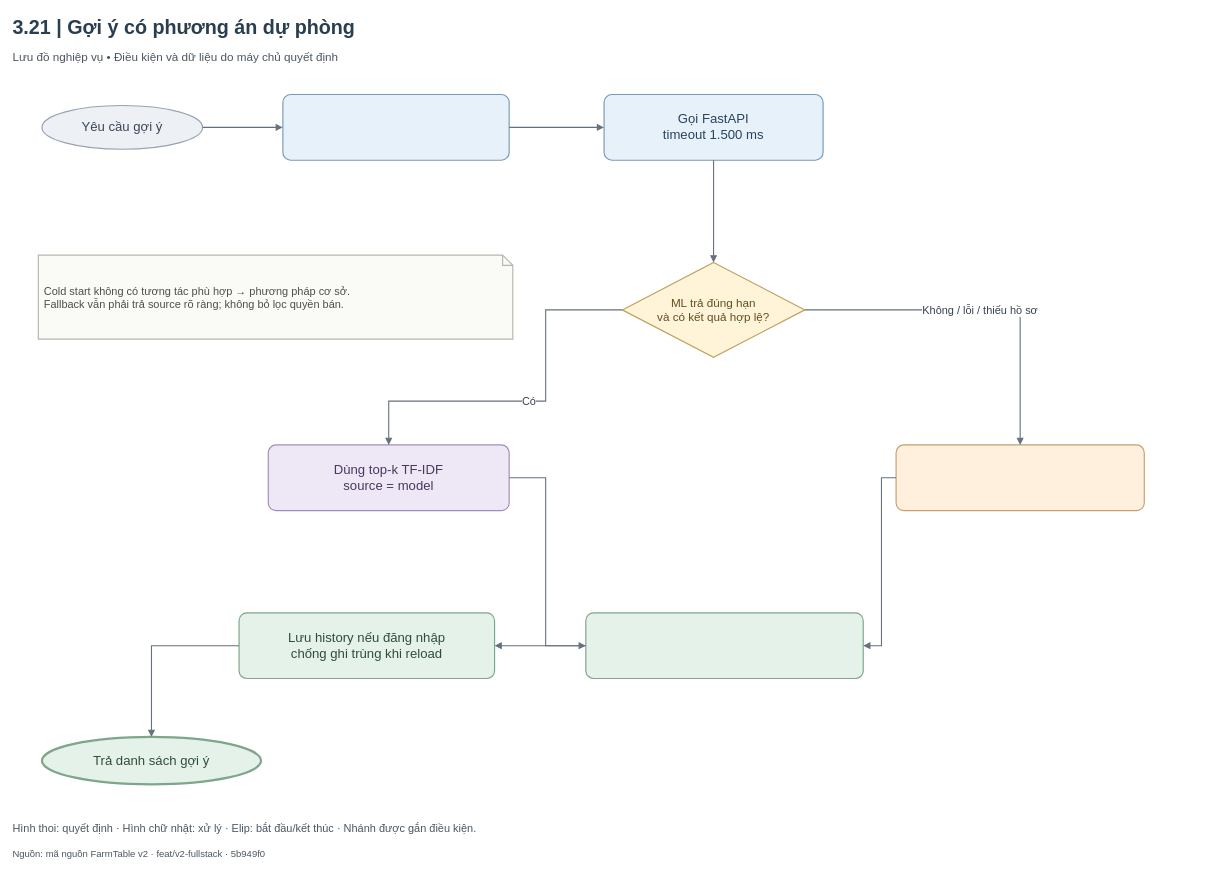
Image size: 1207x875. Some labels were removed from this diagram. The shapes that lost their labels are listed below. From the top down, each one's centre as x and y in pixels, then its label:
At pixel 395 127: "Lấy productId hoặc tương tác gần đây".
At pixel 1019 477: "Cùng danh mục + bán chạy source = fallback".
At pixel 724 645: "Lọc còn bán, loại sản phẩm gốc gắn lý do và nguồn kết quả".
